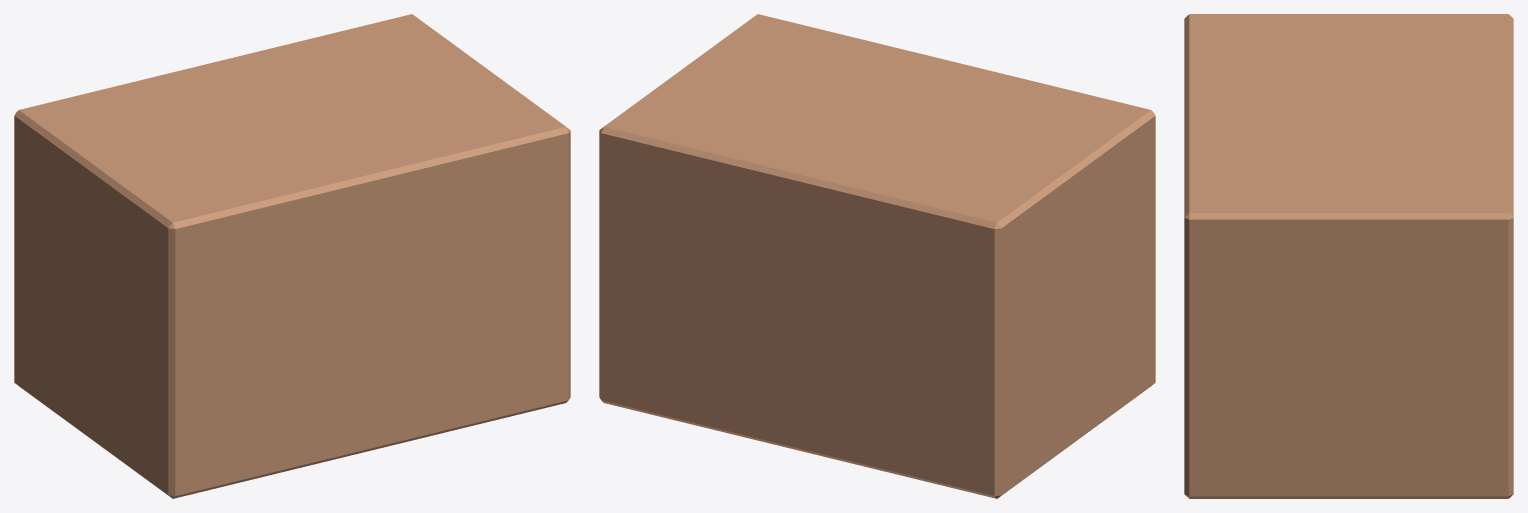
The model's file is 06 Boxes.FBX.
The picture shows the model from 3 angles, left to right: view 1: azimuth 30°, elevation 25°; view 2: azimuth 150°, elevation 25°; view 3: azimuth 270°, elevation 25°; orthographic projection. The views are drawn at different scales.
Parts seen in each view (by area): view 1: Boxes001; view 2: Boxes001; view 3: Boxes001.
Boxes of the visible parts, left/top/right/bottom form: Boxes001: left=14, top=14, right=570, bottom=498; Boxes001: left=599, top=14, right=1155, bottom=498; Boxes001: left=1184, top=14, right=1513, bottom=498.
Bounding box in the file's own units: 457 × 300 × 313.
